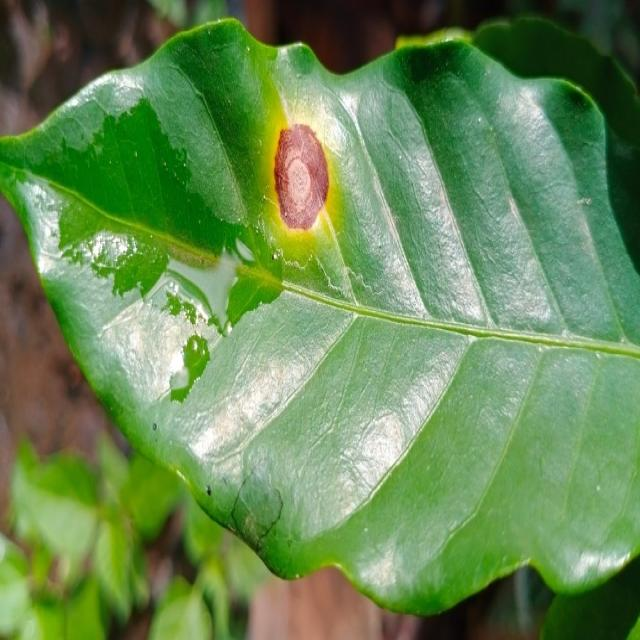Enfermedad-Mancha-de-hierro: (0, 19, 640, 617)
